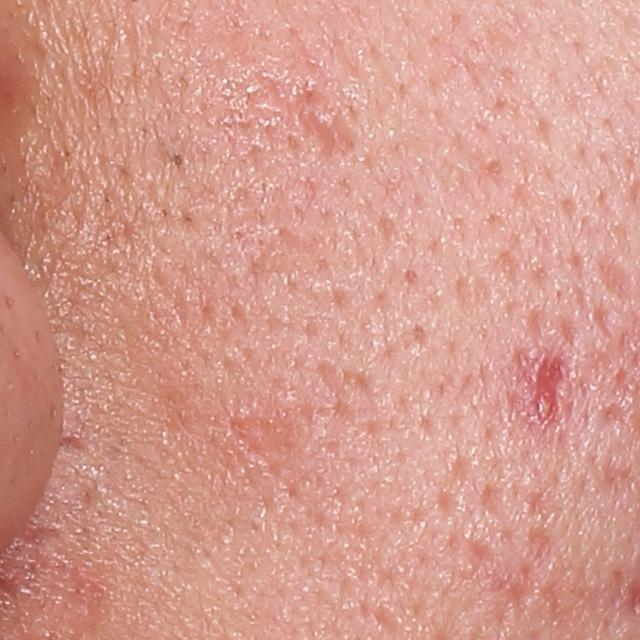atrophic_scar: (288, 87, 363, 156), (227, 407, 301, 473), (319, 356, 372, 425), (595, 246, 638, 311), (534, 354, 565, 424), (475, 480, 512, 537), (528, 523, 561, 581)
